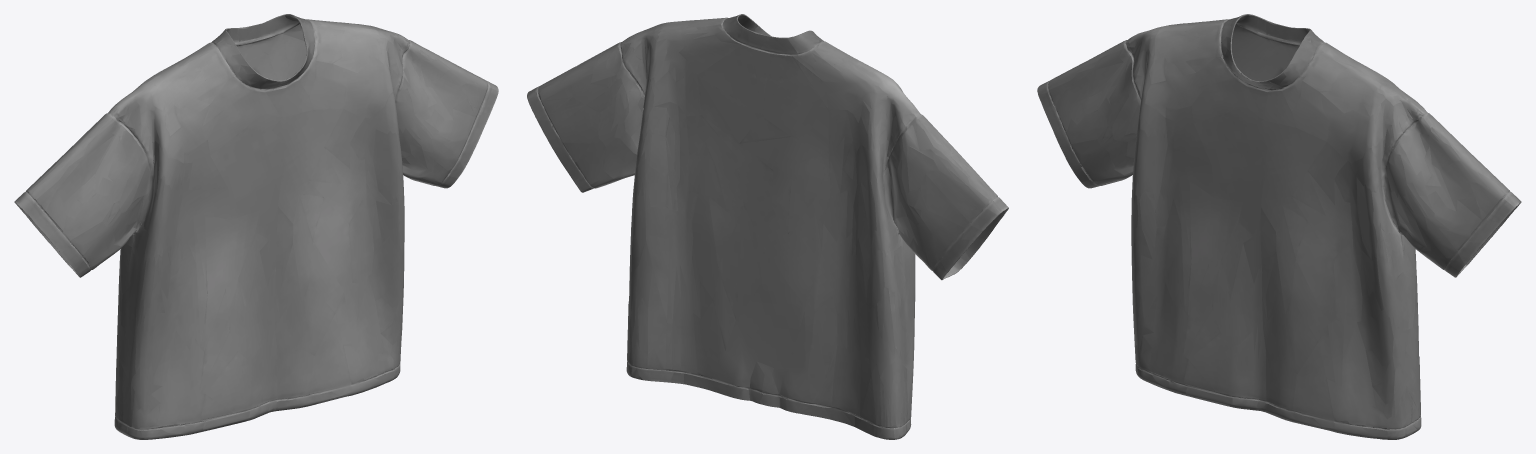
Rendered from tee.glb.
The picture shows the model from 3 angles, left to right: view 1: azimuth 30°, elevation 25°; view 2: azimuth 150°, elevation 25°; view 3: azimuth 330°, elevation 25°; orthographic projection.
Bounding box in the file's own units: 1.9 × 1.43 × 0.2506.
Materials: 1 (1 with a texture image).
